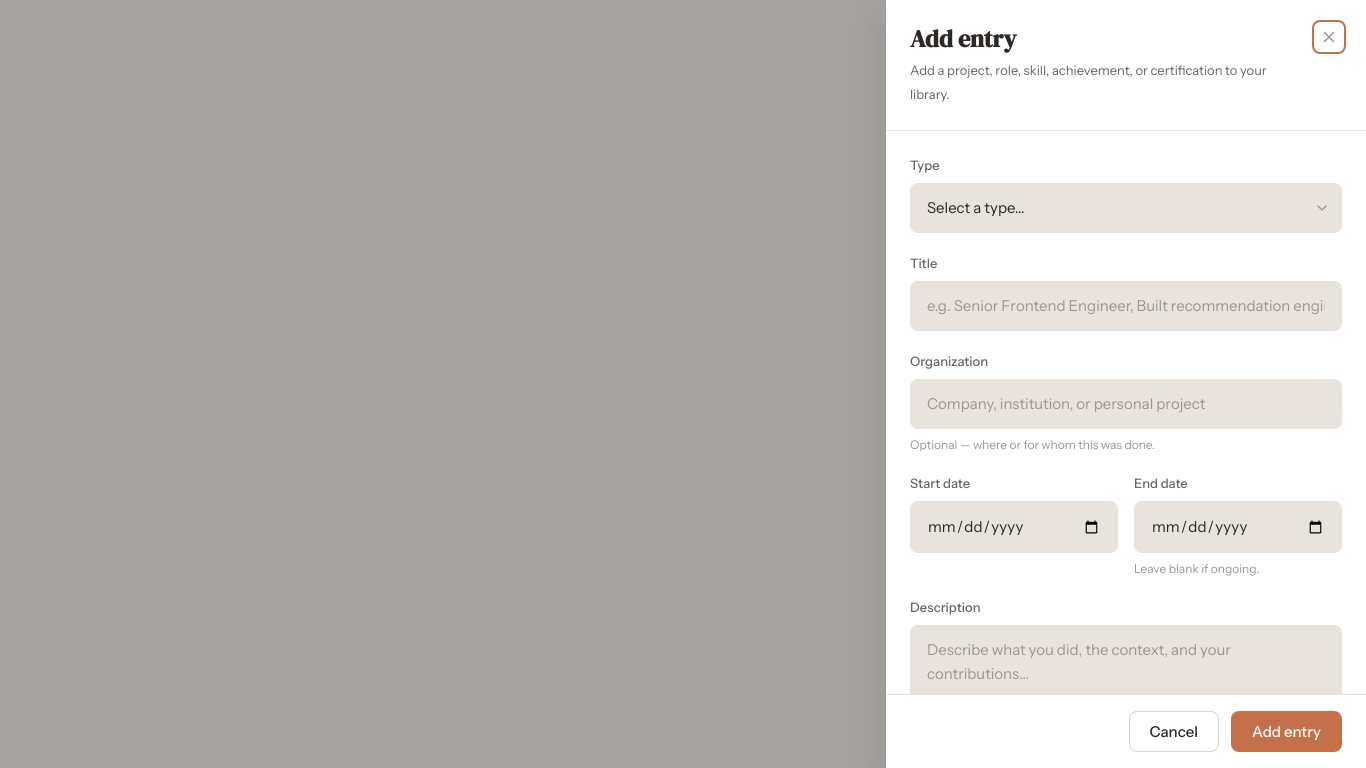
ExperienceForm › shows validation error when title is empty on submit
The width and height of the screenshot is (1366, 768).
// Select a type to satisfy that validation
Select "Project" in the dropdown at (1126, 208), box [910,183,1342,233]
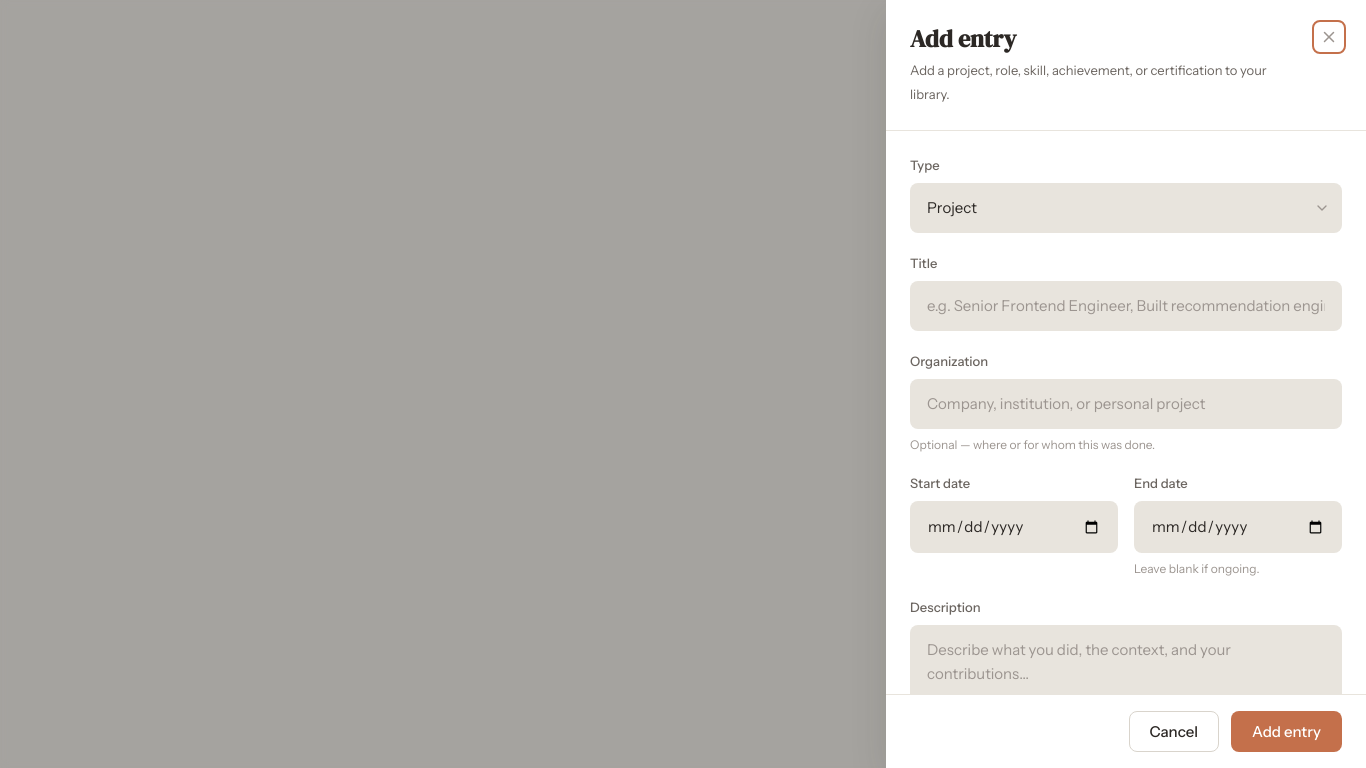
// Submit without a title via the submit button
Click the button "Add entry" at (1287, 732), box [1231,711,1342,752]
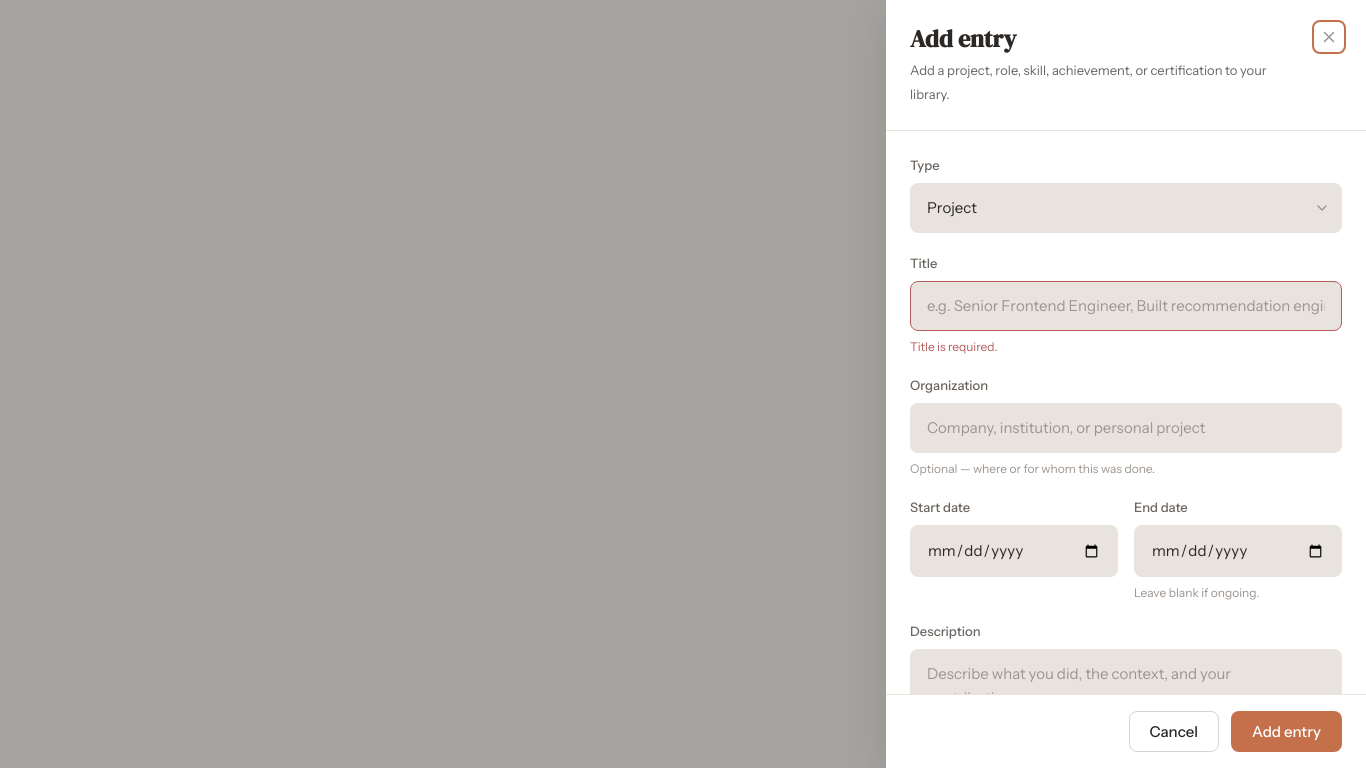
Expected: the message reads "Title is required.", [910,339,998,354]
